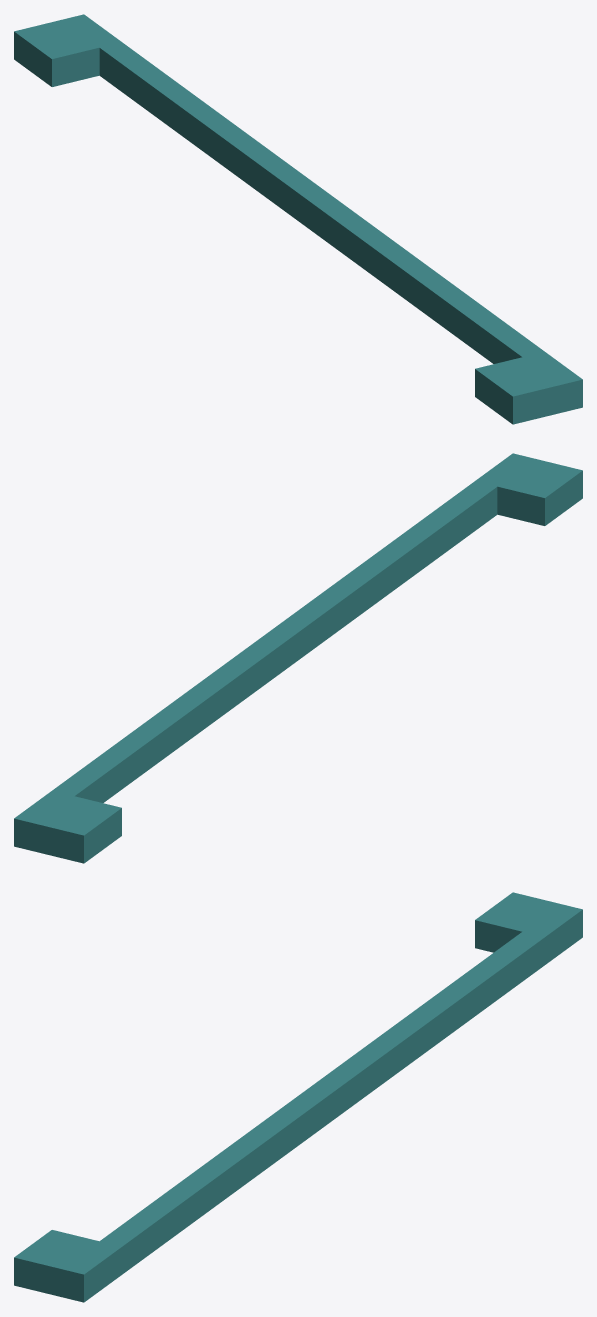
3 renders of one model, top to bottom at view 1: azimuth 30°, elevation 25°; view 2: azimuth 150°, elevation 25°; view 3: azimuth 330°, elevation 25°, orthographic.
Parts seen in each view (by area): view 1: polySurface157; view 2: polySurface157; view 3: polySurface157.
Boxes of the visible parts, left/top/right/bottom form: polySurface157: left=14, top=14, right=582, bottom=424; polySurface157: left=14, top=453, right=582, bottom=863; polySurface157: left=14, top=892, right=582, bottom=1302.
Size of the model in its own units: 3.83 by 1.46 by 47.2.
